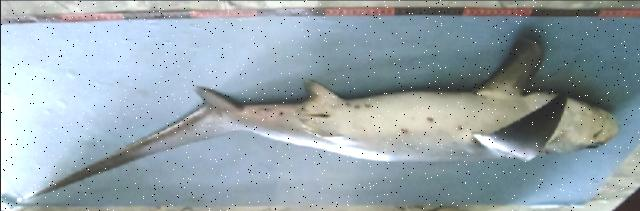Mulut: (586, 98, 612, 142)
Sirip Anal: (253, 98, 281, 123)
Sirip Dada: (472, 28, 572, 170)
Sirip Ekor: (12, 76, 244, 206)
Sirip Perut: (293, 75, 357, 144)
